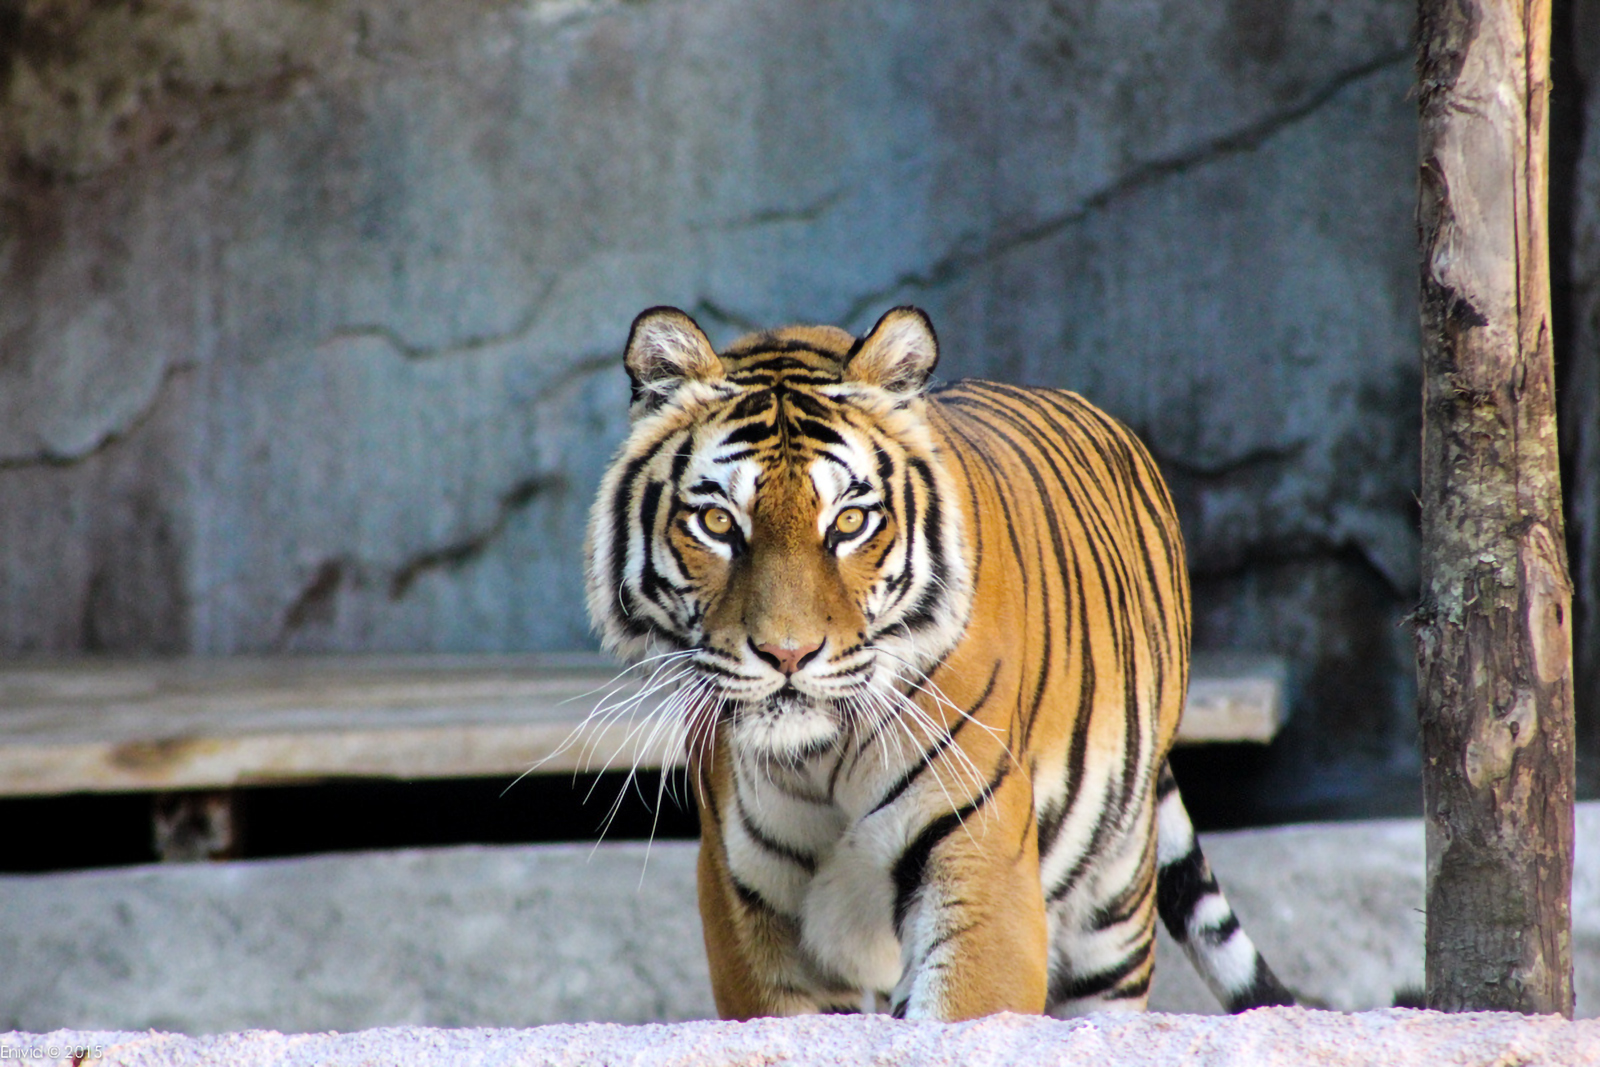tiger: (593, 300, 1276, 1013)
